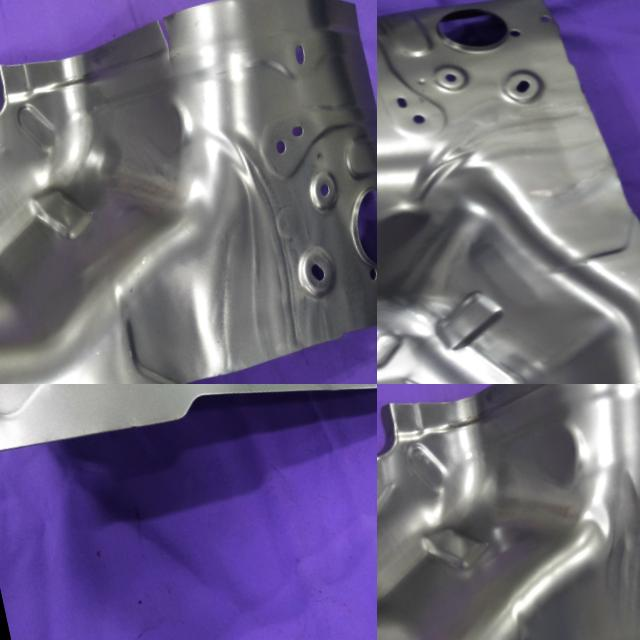Defect: (136, 0, 193, 88), (377, 200, 405, 324)
Healthy: (377, 384, 640, 640), (0, 384, 377, 493)
